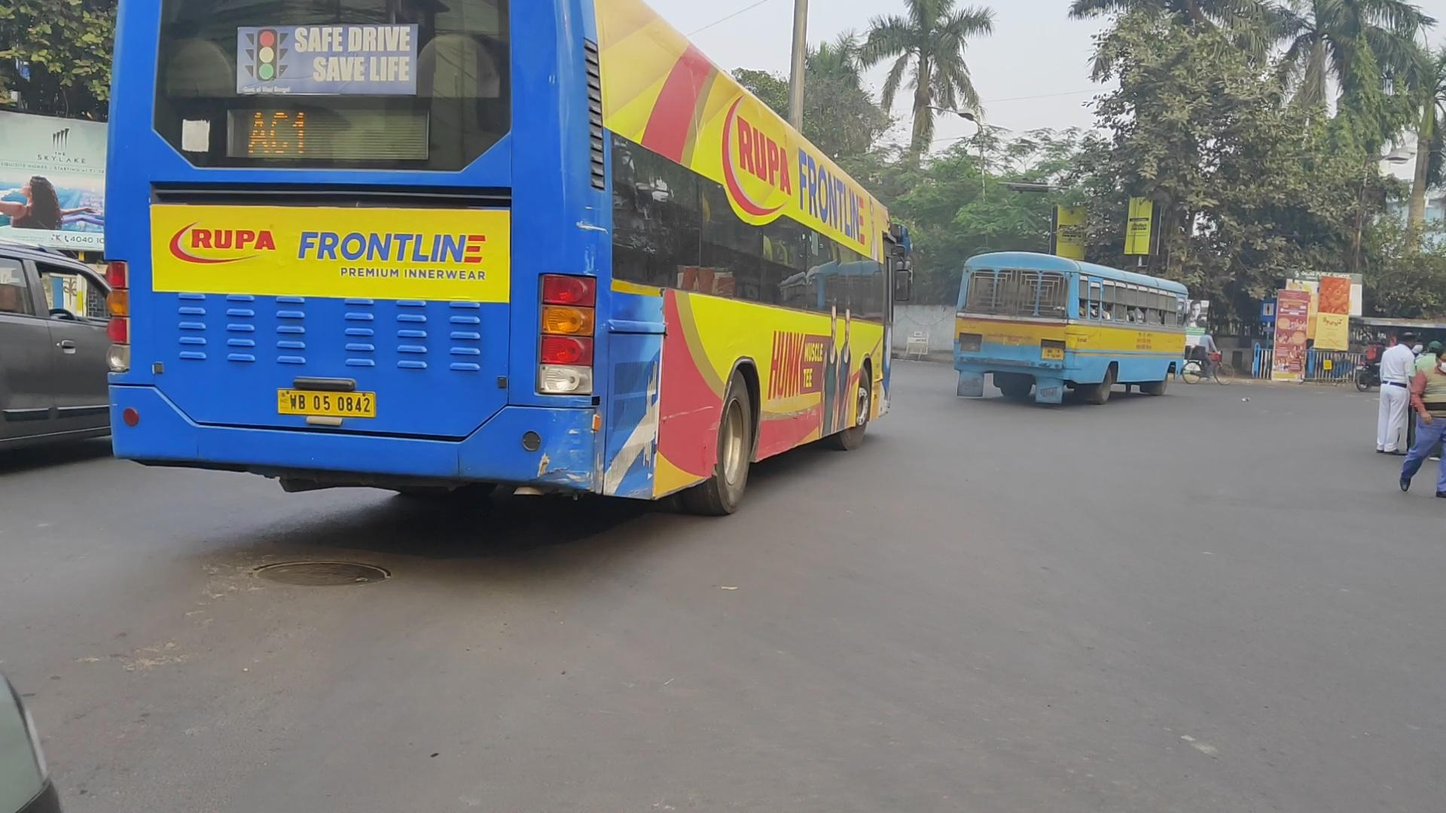Bus: (105, 2, 914, 518), (953, 251, 1188, 405)
bike: (1184, 330, 1234, 386)
car: (1, 239, 137, 480)
